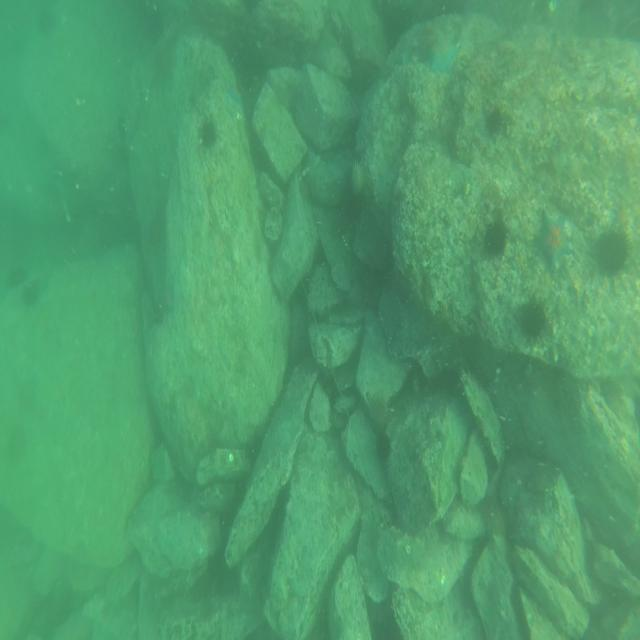echinus: (596, 218, 628, 280), (517, 299, 551, 337), (482, 215, 510, 261), (367, 390, 392, 433), (349, 152, 369, 199), (199, 118, 217, 150), (487, 108, 504, 139), (21, 280, 41, 306)
starfish: (536, 202, 574, 276), (425, 22, 461, 72)
